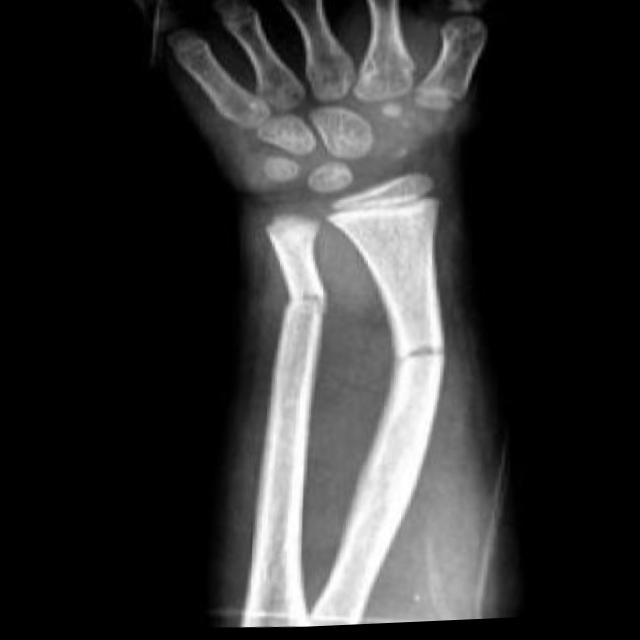fracture: (369, 328, 477, 386), (276, 282, 341, 328)
